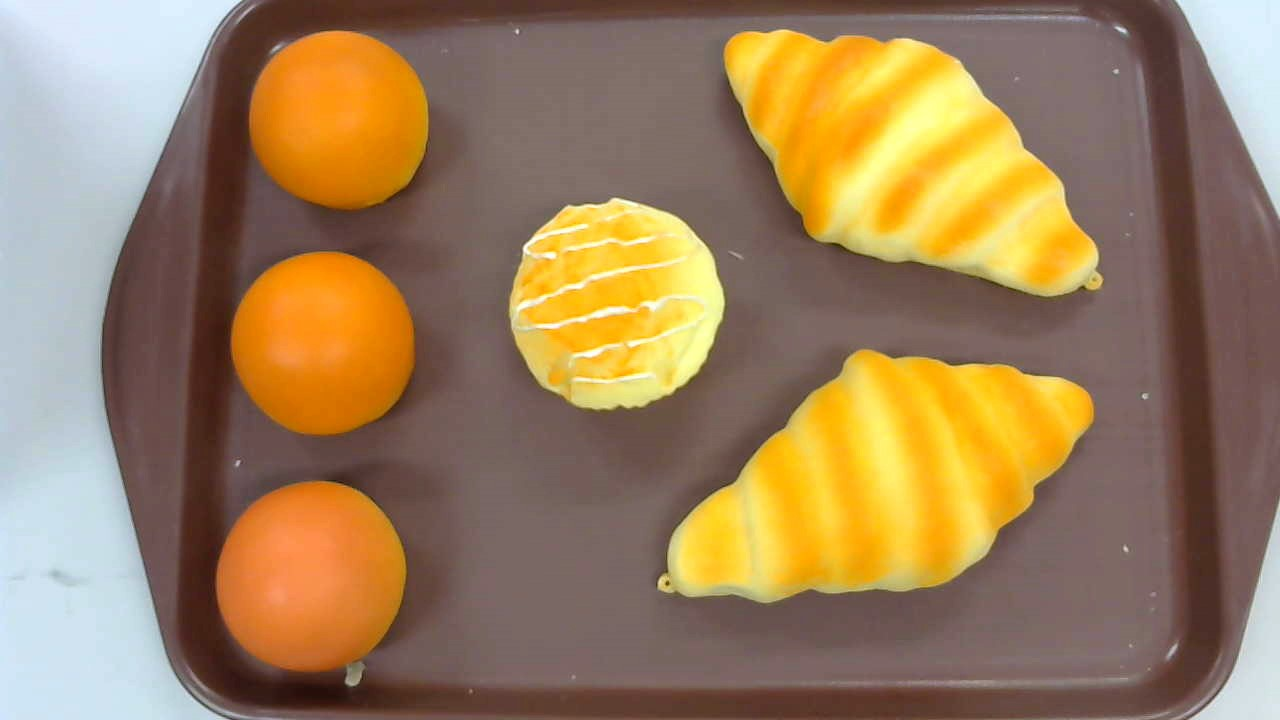bun: (215, 480, 408, 673), (228, 252, 416, 436), (247, 31, 428, 207)
croissant: (656, 348, 1095, 605), (724, 29, 1103, 297)
cupcake: (508, 196, 725, 411)
